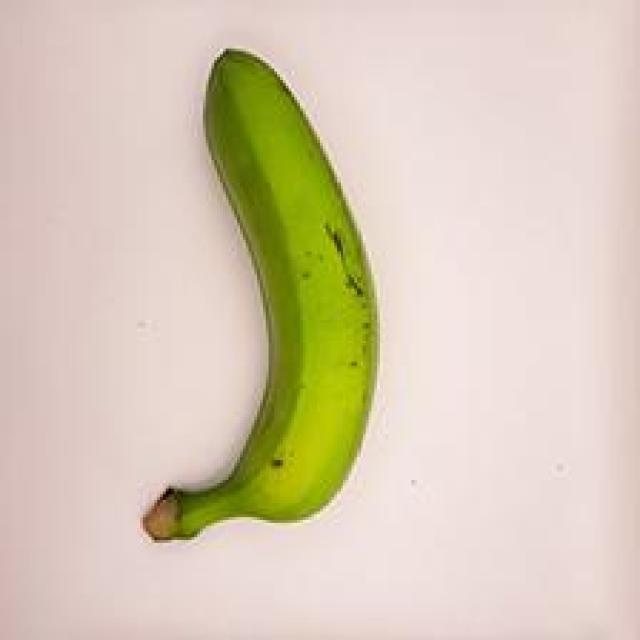unripe: (108, 43, 398, 553)
